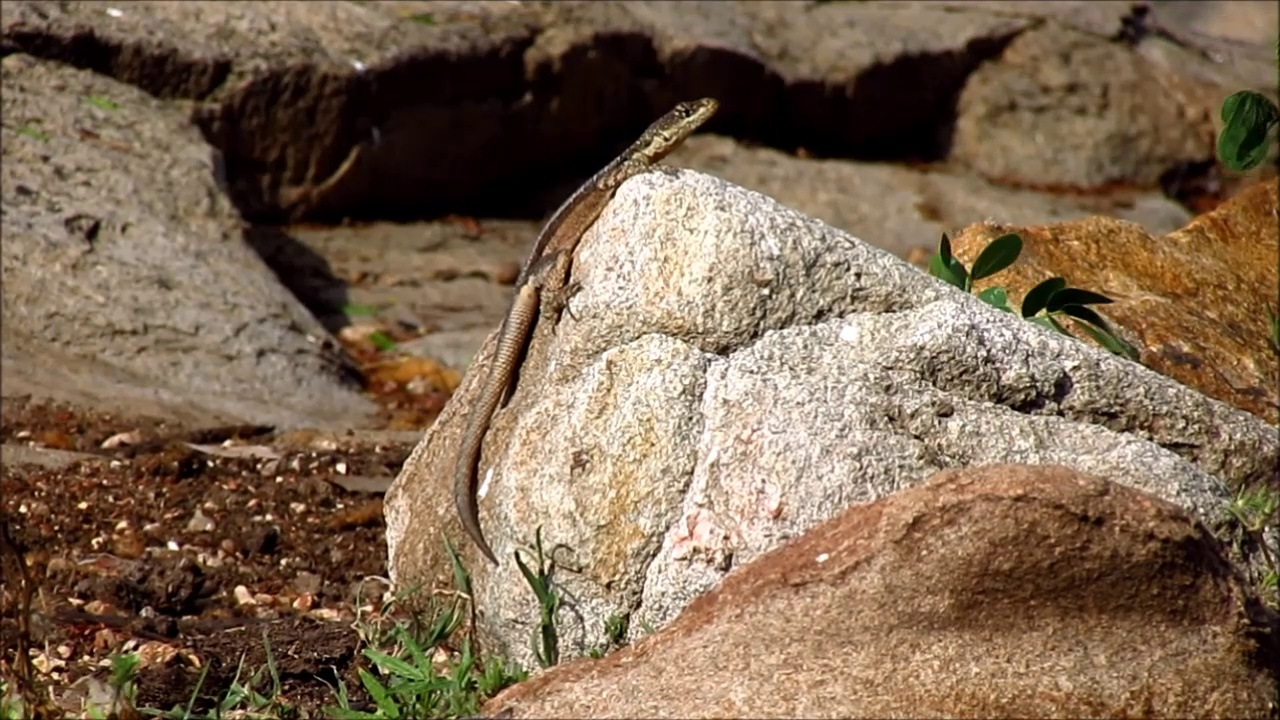body: (454, 138, 639, 567)
head: (638, 97, 719, 154)
